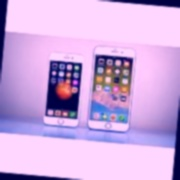iphone: (47, 44, 90, 130), (99, 53, 135, 129)
